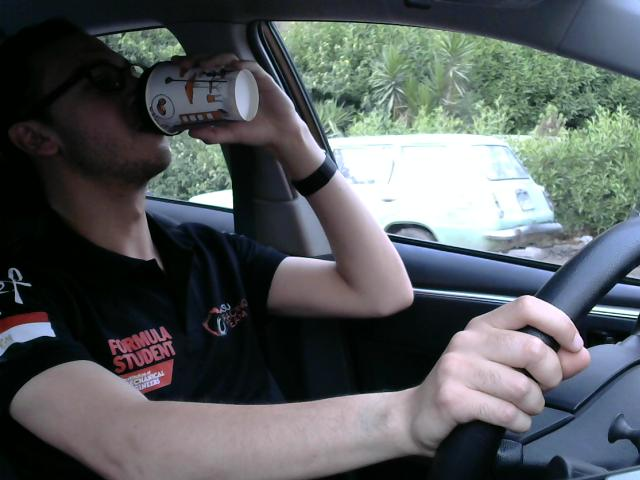Drinking: (127, 54, 269, 131)
